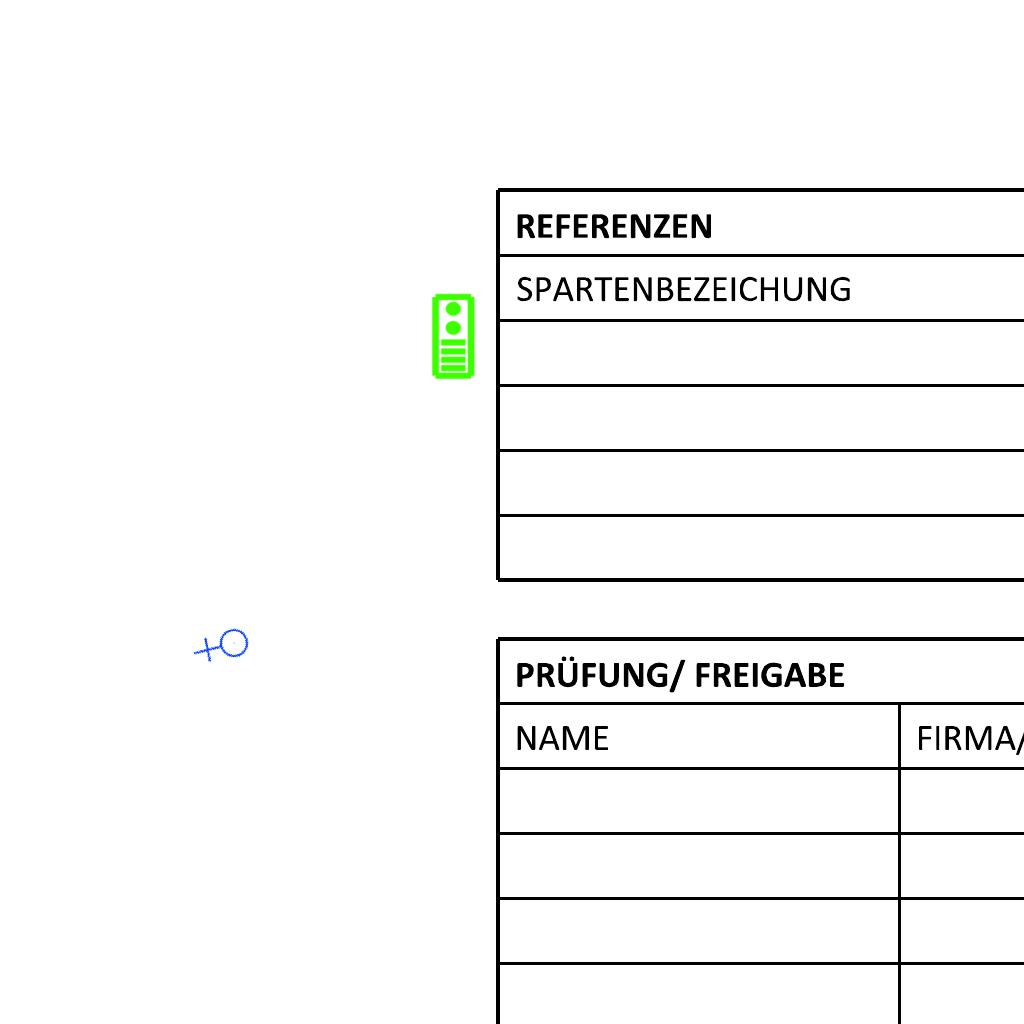Elektroanschluss_allgemein_230V_Geraeteanschlussdose_230V: (191, 614, 258, 681)
Gegensprechanlage_mit_Video: (429, 292, 476, 380)
